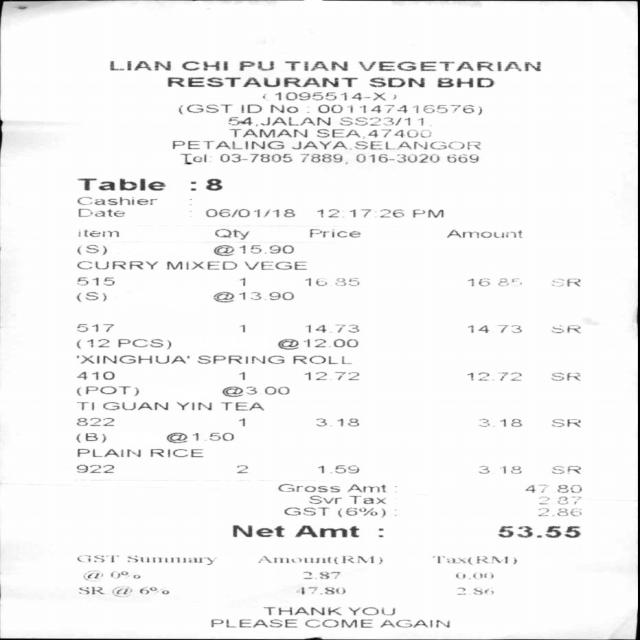text: (166, 76, 356, 86), (291, 140, 478, 149), (317, 104, 481, 114), (358, 61, 540, 70), (261, 91, 394, 100), (77, 178, 164, 190), (315, 128, 430, 137), (76, 354, 188, 363), (172, 140, 283, 149), (497, 525, 580, 537), (277, 338, 357, 349), (205, 208, 294, 217), (213, 245, 292, 255), (213, 291, 292, 301), (294, 524, 358, 536), (165, 432, 233, 443), (339, 116, 422, 125), (356, 153, 438, 162), (76, 196, 157, 205), (228, 128, 306, 137), (316, 209, 402, 217), (196, 355, 282, 363), (210, 618, 296, 626), (126, 556, 210, 564), (432, 556, 515, 564), (76, 260, 156, 268), (220, 153, 291, 162), (220, 386, 290, 395), (258, 555, 336, 563), (284, 60, 346, 70), (109, 60, 170, 70), (232, 524, 282, 536), (262, 116, 328, 125), (446, 229, 520, 237), (102, 401, 166, 410), (437, 77, 493, 87), (166, 261, 236, 269), (378, 619, 448, 627), (75, 386, 137, 395), (276, 483, 338, 492), (262, 607, 340, 614), (304, 619, 370, 627), (317, 463, 357, 476), (243, 261, 306, 269), (76, 448, 139, 456), (524, 484, 580, 493), (368, 77, 423, 86), (178, 104, 231, 113), (116, 339, 169, 348), (291, 355, 350, 363), (300, 153, 346, 163), (181, 60, 226, 70), (304, 278, 358, 286), (466, 372, 520, 380), (336, 507, 384, 516), (214, 227, 247, 240), (305, 324, 358, 332), (149, 448, 202, 456), (468, 278, 520, 286), (468, 324, 520, 332), (227, 115, 256, 129), (309, 228, 359, 236), (304, 372, 358, 379), (220, 401, 262, 410), (76, 208, 123, 216), (189, 178, 220, 190), (348, 606, 394, 614), (282, 506, 327, 514), (299, 586, 344, 594), (314, 418, 358, 426), (477, 418, 521, 426), (477, 465, 521, 473), (238, 60, 273, 70), (303, 570, 338, 580), (76, 464, 112, 473), (75, 338, 107, 348), (76, 277, 114, 285), (76, 371, 114, 379), (346, 484, 384, 492), (348, 495, 385, 503), (538, 496, 580, 503), (538, 508, 580, 515), (76, 555, 118, 562), (76, 244, 105, 254), (75, 432, 104, 442), (76, 324, 112, 332), (76, 417, 112, 425), (77, 229, 117, 236), (346, 555, 381, 563), (454, 572, 494, 579), (180, 153, 205, 164), (458, 586, 492, 594), (75, 292, 104, 301), (308, 495, 340, 503), (175, 402, 210, 409), (446, 154, 476, 162), (412, 208, 442, 216), (139, 586, 168, 594), (270, 104, 298, 112), (552, 278, 580, 286), (552, 324, 580, 332), (552, 418, 580, 426), (82, 570, 102, 581), (78, 586, 103, 594), (551, 372, 579, 379), (552, 466, 580, 473), (110, 571, 138, 578), (112, 586, 130, 595), (241, 104, 260, 112), (76, 402, 92, 409), (235, 464, 246, 472), (237, 418, 244, 426), (238, 324, 244, 331), (238, 278, 243, 286), (238, 372, 243, 379), (378, 528, 382, 536)
